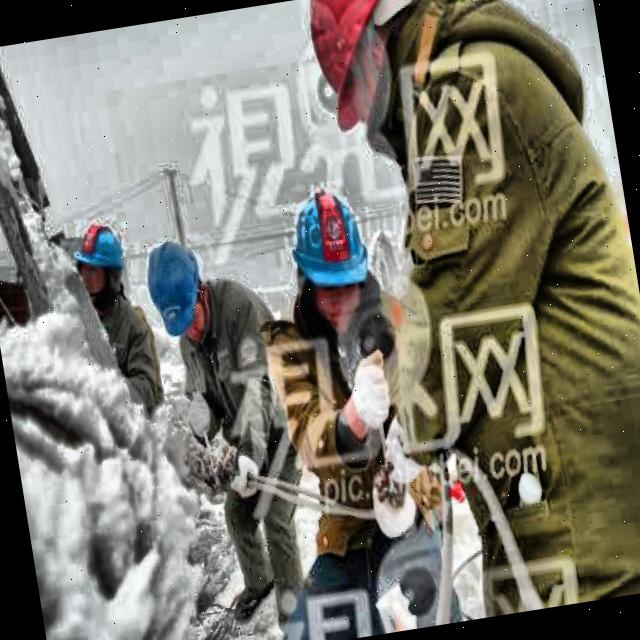helmet: (295, 0, 462, 165), (286, 170, 378, 332), (132, 232, 222, 356), (70, 217, 130, 304)
